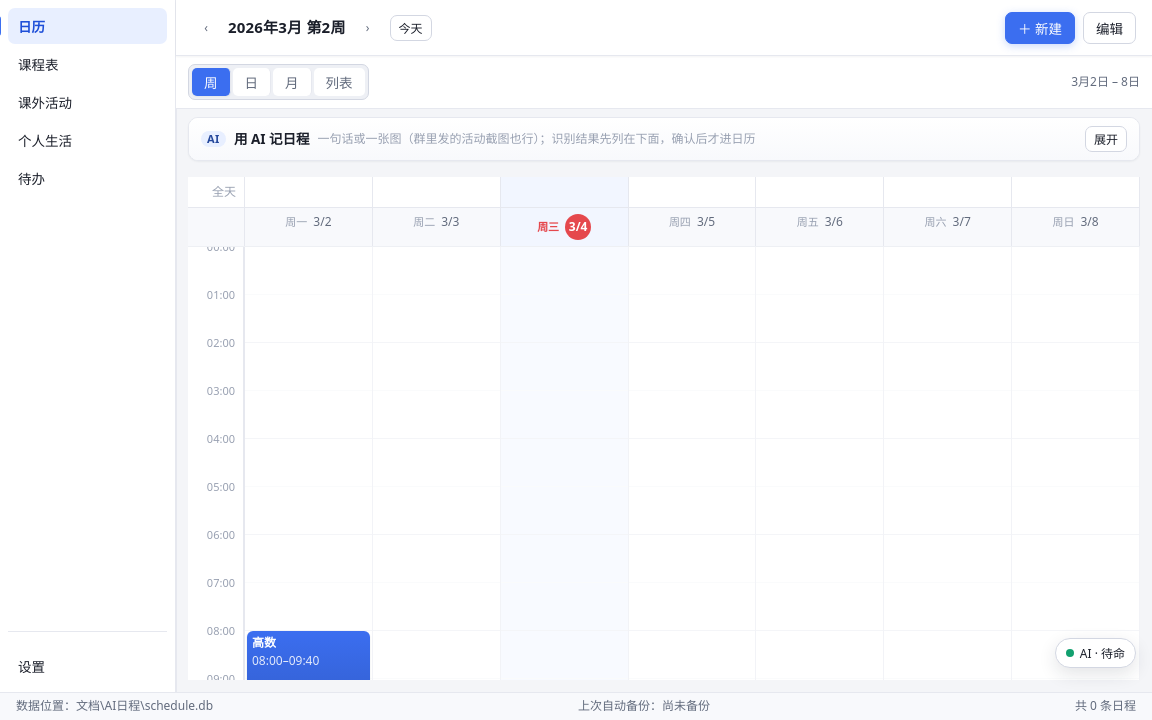
Test case: 日程右键菜单 › 编辑态多出编辑、复制与删除
Expected: the button with test id "block-e1" is shown, [247,631,370,680]
Click the button "编辑": (1110, 28) [1083,12,1136,44]
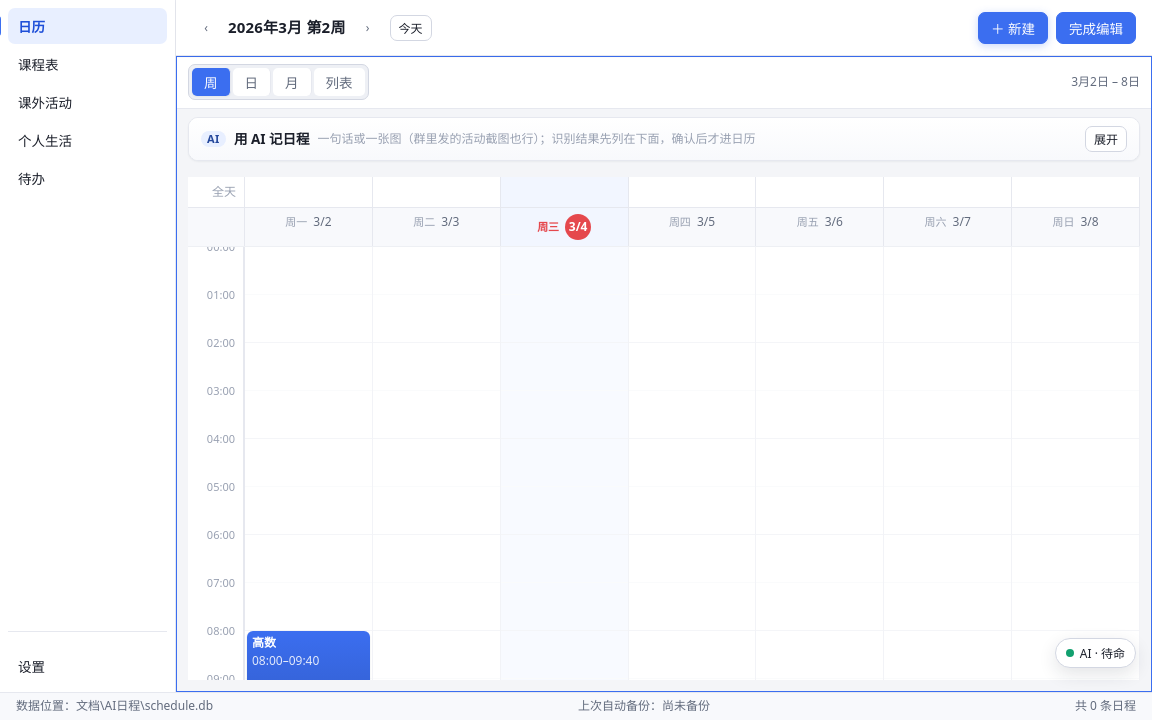
Right-click the button with test id "block-e1": (308, 671) [247,631,370,711]
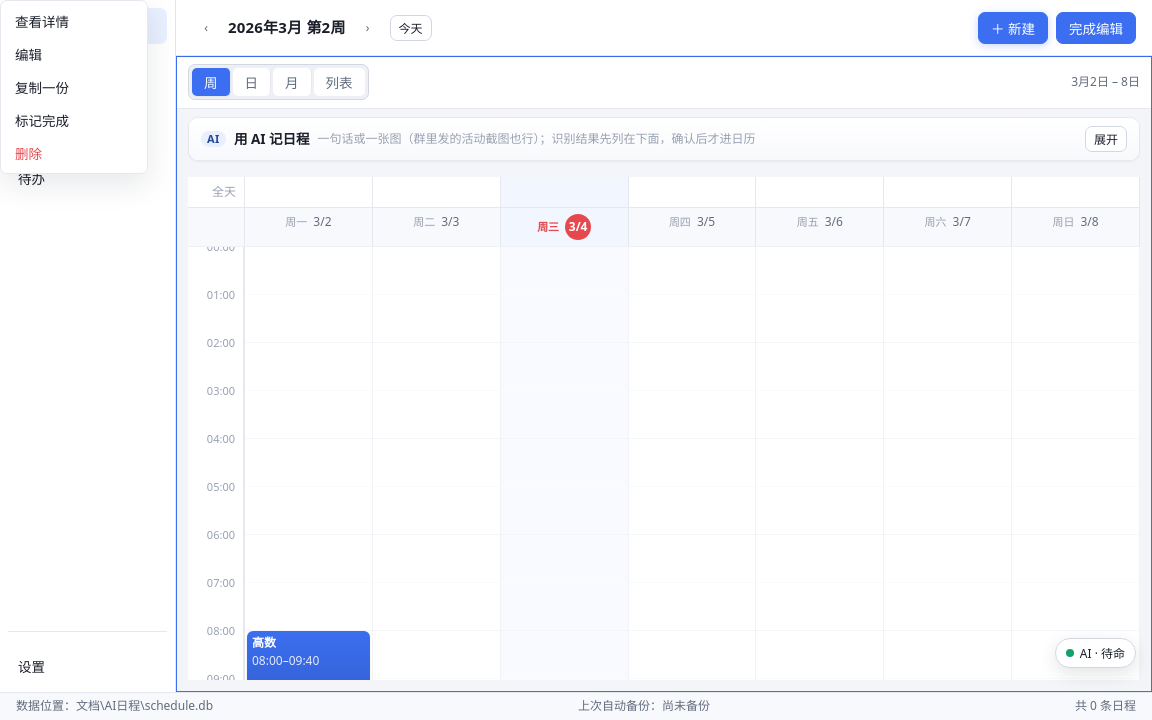
Now the menu items read "查看详情", "编辑", "复制一份", "标记完成", "删除", in this order, box [5,5,143,37]; [5,38,143,70]; [5,71,143,103]; [5,104,143,136]; [5,137,143,169]
